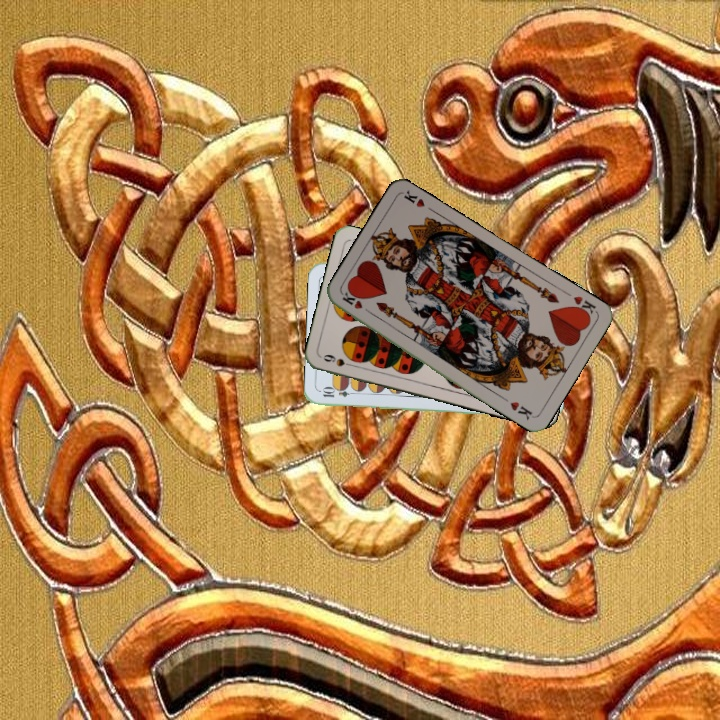E10: (319, 386, 359, 400)
HK: (338, 289, 376, 317), (568, 292, 599, 320)
S9: (319, 350, 359, 370)
